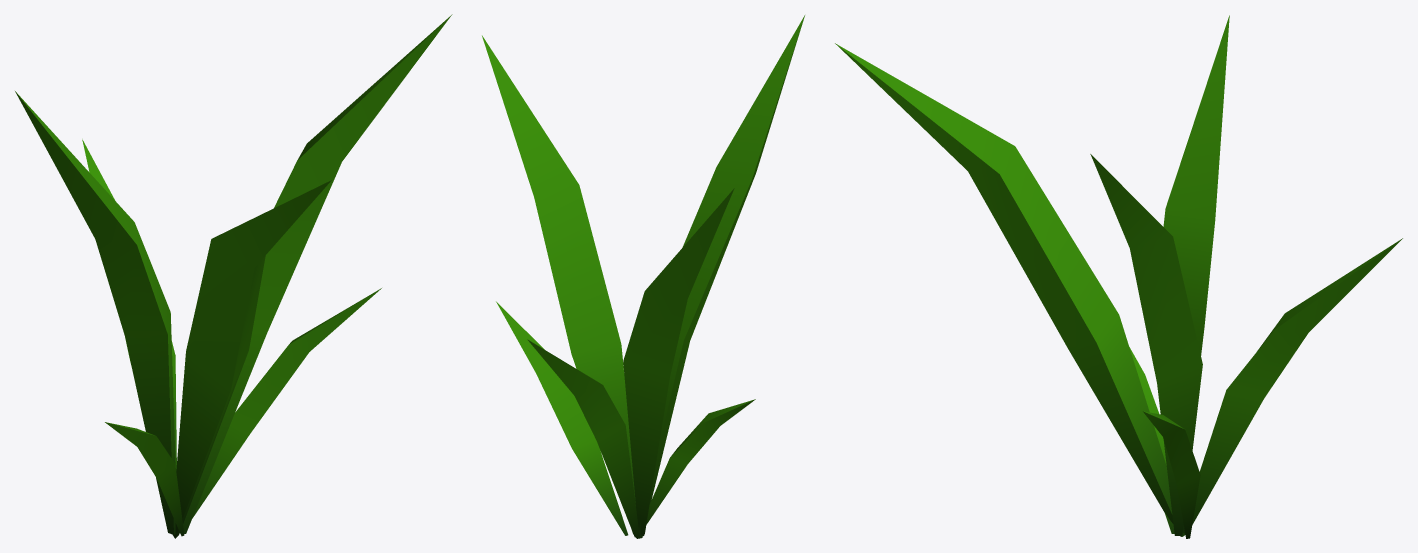
File: ENV_Vegetation_Grass_02.fbx
3 renders of one model, left to right at view 1: azimuth 30°, elevation 25°; view 2: azimuth 150°, elevation 25°; view 3: azimuth 270°, elevation 25°, orthographic. The views are drawn at different scales.
Visible parts, largest first — view 1: ENV_Vegetation_Grass_02; view 2: ENV_Vegetation_Grass_02; view 3: ENV_Vegetation_Grass_02.
Part boxes in pixels (box(x1,y1,x2,y2)): ENV_Vegetation_Grass_02: box(15, 14, 452, 538); ENV_Vegetation_Grass_02: box(482, 15, 804, 538); ENV_Vegetation_Grass_02: box(835, 15, 1402, 538).
Size of the model in its own units: 19.73 by 25.69 by 26.81.
